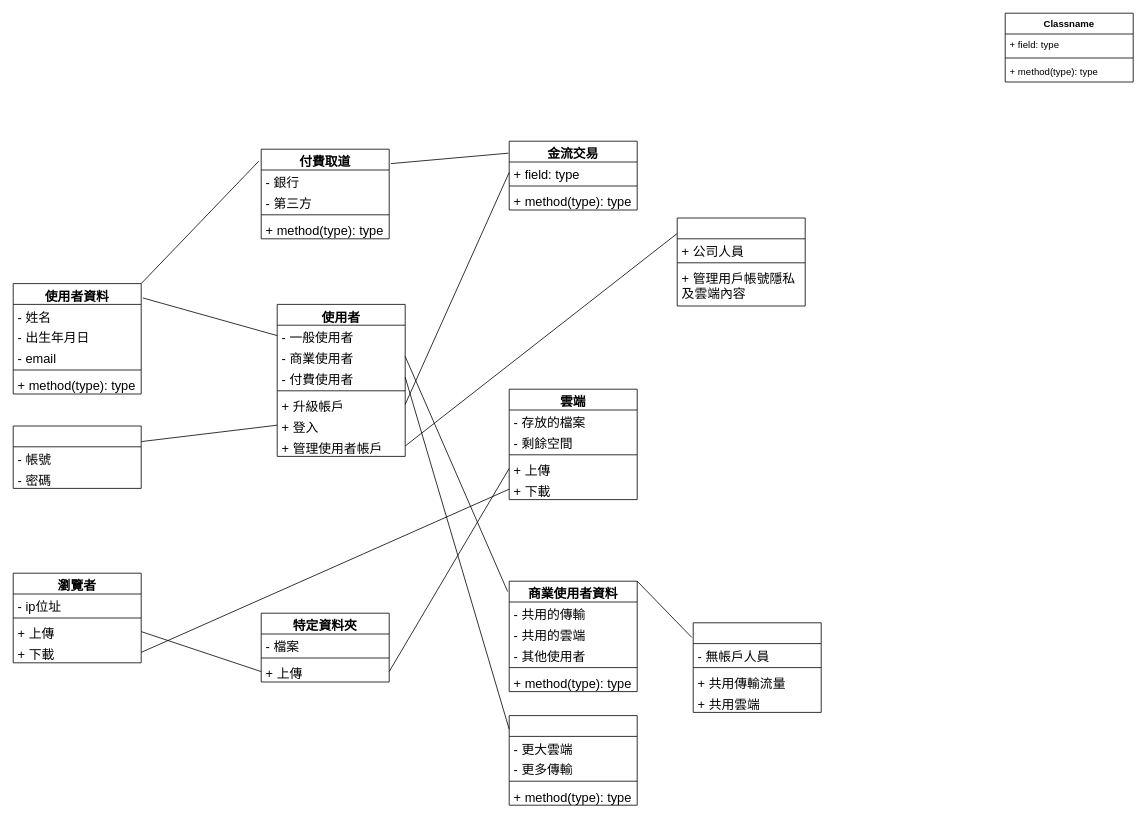
The diagram is 1146 pixels wide and 818 high, and some of its shapes have lost their labels. Here are the shapes that lost their labels. From the top down, the box of each, then its label:
(676, 217, 805, 306): 管理人員
(12, 425, 141, 488): 登入
(692, 622, 821, 712): 其他使用者
(508, 715, 637, 805): 付費使用者資料
